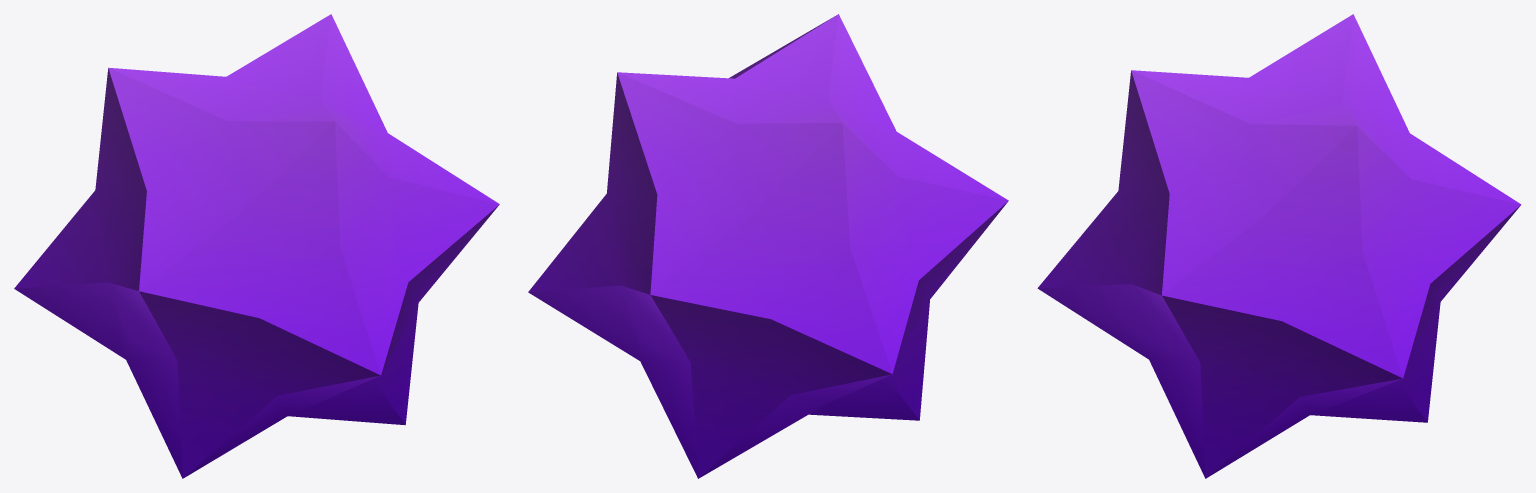
File: GemStone.glb
3 renders of one model, left to right at view 1: azimuth 30°, elevation 25°; view 2: azimuth 150°, elevation 25°; view 3: azimuth 270°, elevation 25°, orthographic.
Parts seen in each view (by area): view 1: Collectable_Gem_02; view 2: Collectable_Gem_02; view 3: Collectable_Gem_02.
Boxes of the visible parts, x1=… form: Collectable_Gem_02: x1=14, y1=14, x2=499, y2=478; Collectable_Gem_02: x1=528, y1=14, x2=1008, y2=478; Collectable_Gem_02: x1=1037, y1=14, x2=1521, y2=478.
Bounding box in the file's own units: 0.7505 × 0.6972 × 0.8584.
1 material, 1 textured.
